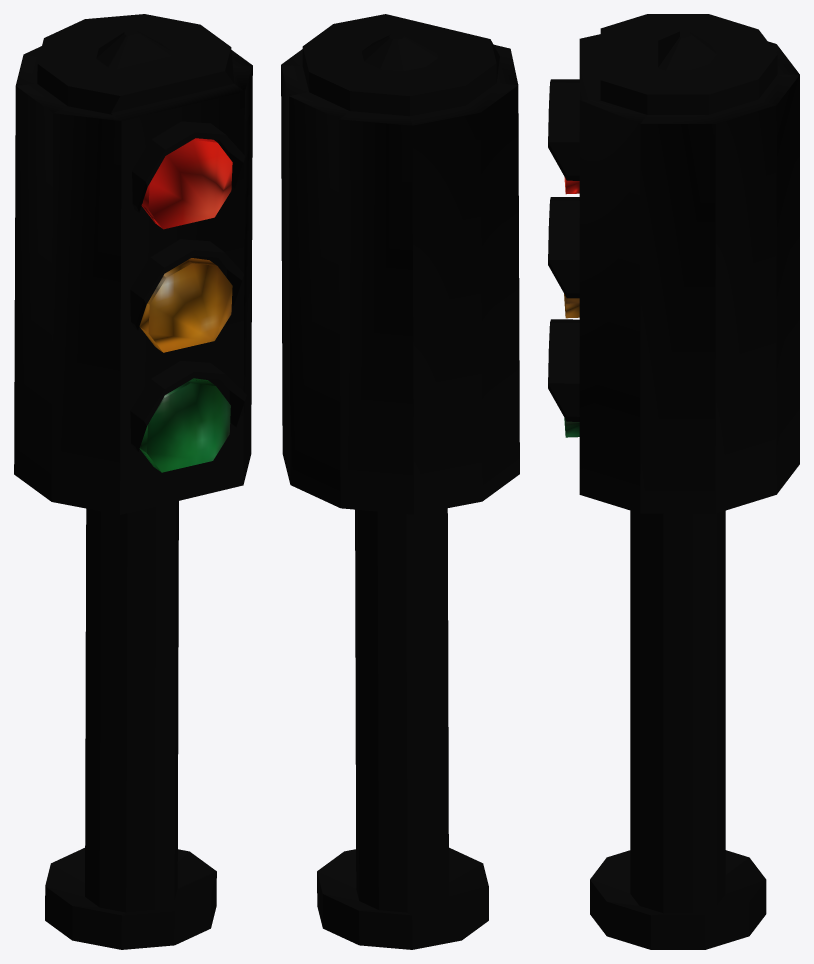
The model's file is trafik lambası yeni.fbx.
3 renders of one model, left to right at view 1: azimuth 30°, elevation 25°; view 2: azimuth 150°, elevation 25°; view 3: azimuth 270°, elevation 25°, orthographic.
Parts seen in each view (by area): view 1: İkosfer.002; view 2: İkosfer.002; view 3: İkosfer.002.
Boxes of the visible parts, box(x1,y1,x2,y2) form: İkosfer.002: box(14, 14, 252, 949); İkosfer.002: box(281, 14, 519, 949); İkosfer.002: box(548, 14, 799, 949).
Size of the model in its own units: 54.09 by 225 by 58.34.
1 material, 1 textured.
